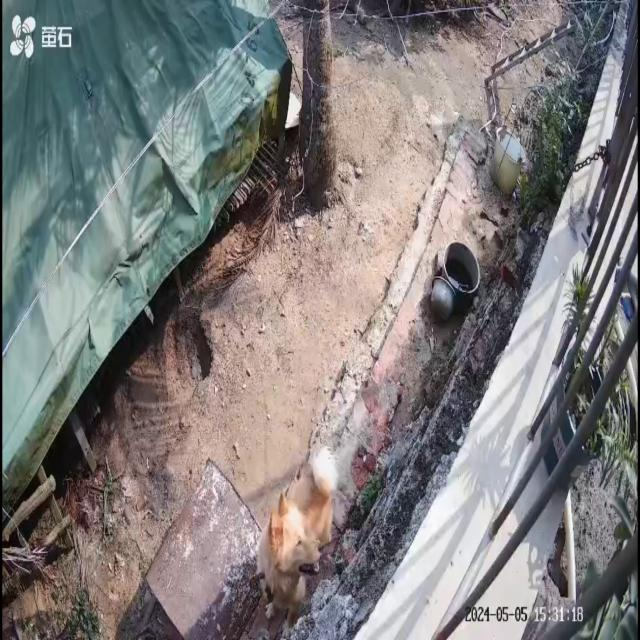dog: (256, 452, 340, 618)
